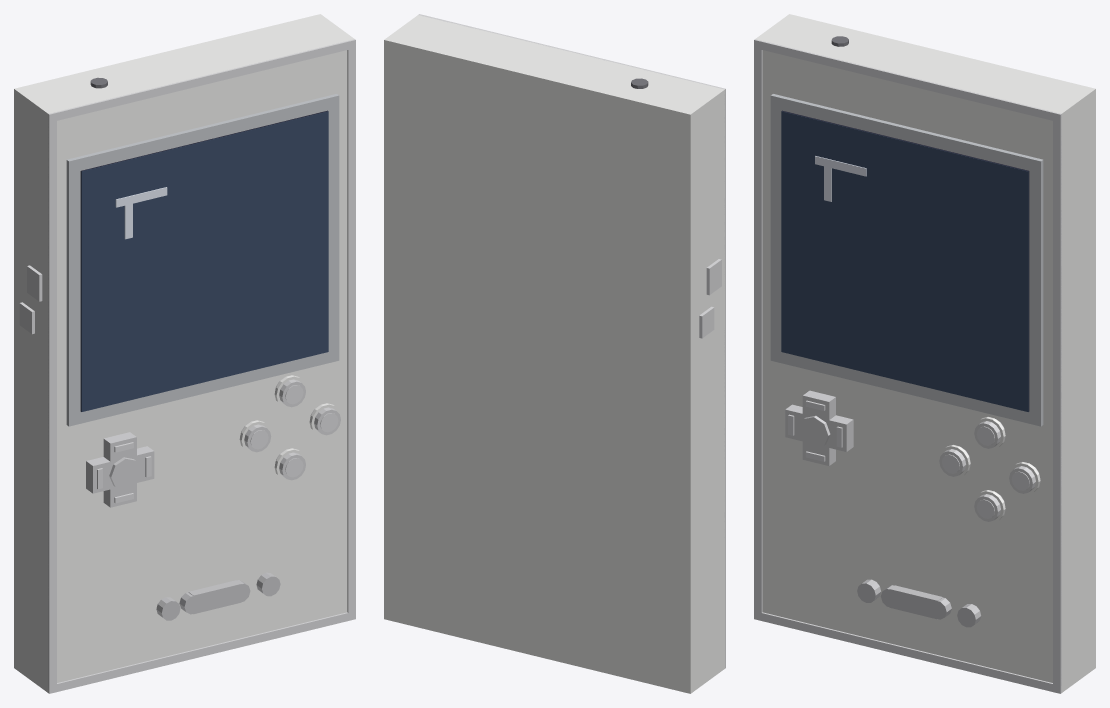
The model's file is gameboy_pocket_style.glb.
The picture shows the model from 3 angles, left to right: view 1: azimuth 30°, elevation 25°; view 2: azimuth 150°, elevation 25°; view 3: azimuth 330°, elevation 25°; orthographic projection.
Visible parts, largest first — view 1: Body, ScreenGlass, ScreenBezel, TrimLeft, TrimRight, TrimTop, TrimBot, BtnHome, DPadV, DPadH, Screen, DPadCtr; view 2: Body, TrimLeft, TrimTop; view 3: Body, ScreenGlass, ScreenBezel, TrimRight, TrimLeft, TrimTop, TrimBot, BtnHome, DPadH, DPadV, Screen, DPadCtr.
Boxes of the visible parts, <box> form: Body: <box>14,14,354,692</box>; ScreenGlass: <box>81,111,328,411</box>; ScreenBezel: <box>66,94,339,426</box>; TrimLeft: <box>48,121,56,685</box>; TrimRight: <box>347,48,355,612</box>; TrimTop: <box>48,39,355,122</box>; TrimBot: <box>48,611,355,693</box>; BtnHome: <box>179,580,250,614</box>; DPadV: <box>103,432,136,507</box>; DPadH: <box>86,446,154,493</box>; Screen: <box>80,110,327,411</box>; DPadCtr: <box>109,457,139,488</box>; Body: <box>384,15,724,693</box>; TrimLeft: <box>724,97,725,660</box>; TrimTop: <box>418,14,725,97</box>; Body: <box>755,14,1095,692</box>; ScreenGlass: <box>781,111,1028,411</box>; ScreenBezel: <box>770,94,1043,426</box>; TrimRight: <box>1053,121,1061,685</box>; TrimLeft: <box>754,48,762,612</box>; TrimTop: <box>754,39,1061,122</box>; TrimBot: <box>754,611,1061,693</box>; BtnHome: <box>880,585,951,619</box>; DPadH: <box>785,404,853,451</box>; DPadV: <box>802,390,835,465</box>; Screen: <box>782,110,1029,411</box>; DPadCtr: <box>799,415,830,447</box>.
Size of the model in its own units: 7.27 by 13.09 by 1.77.
